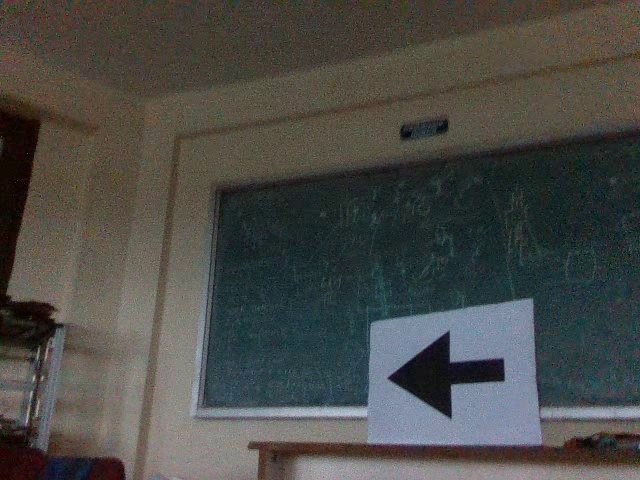Left: (382, 326, 519, 427)
